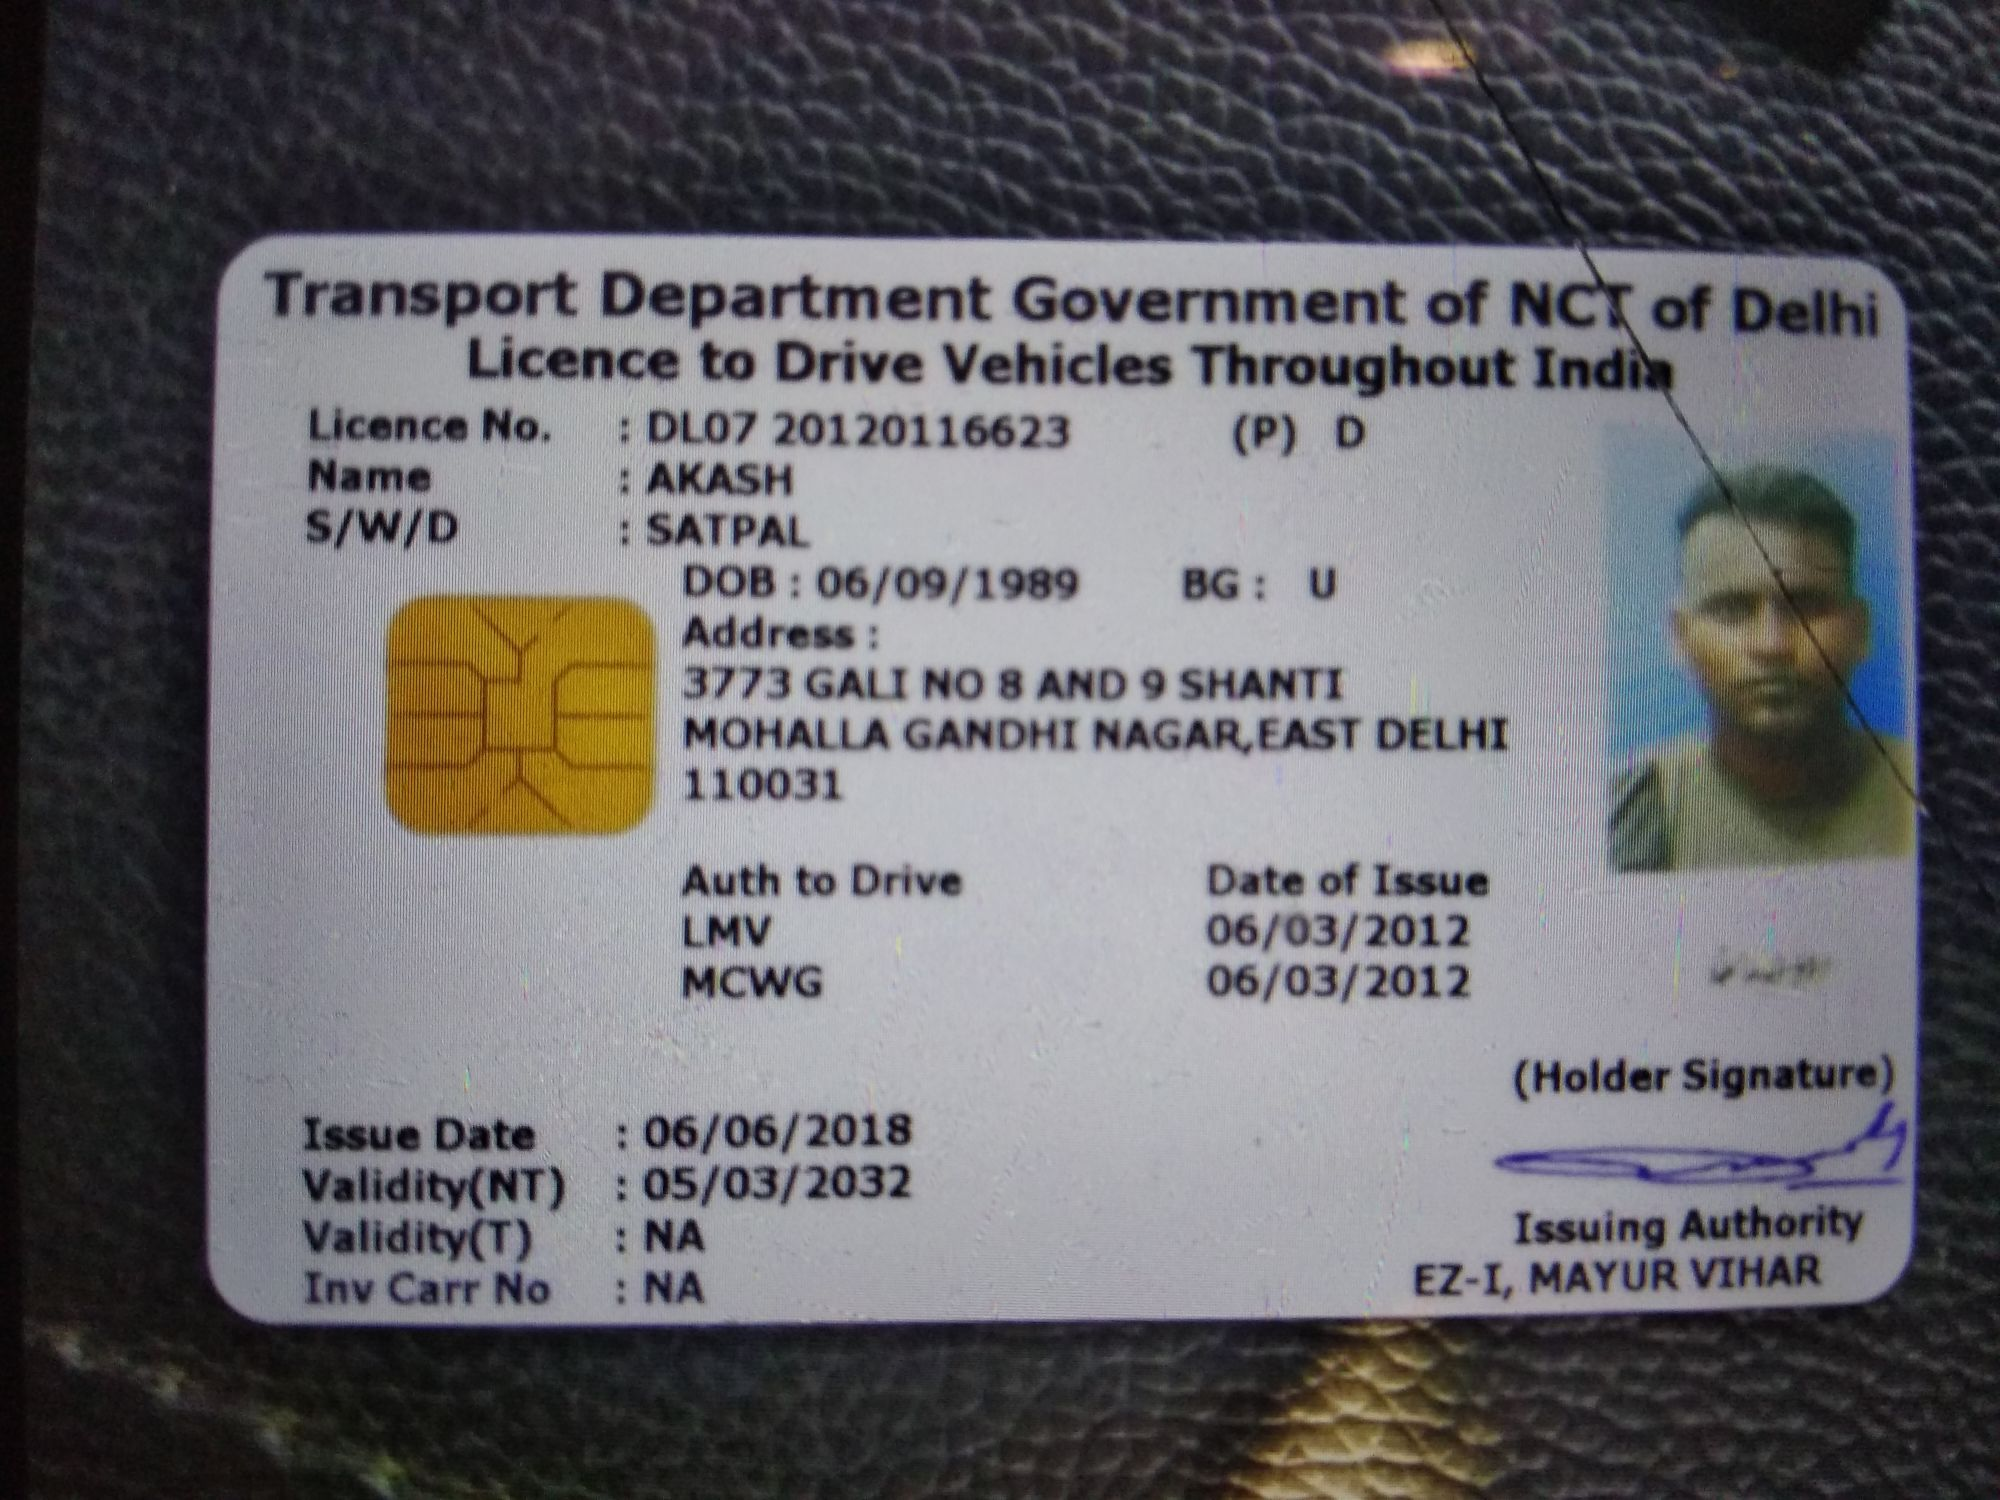text: (303, 397, 1077, 453), (295, 457, 825, 502), (299, 506, 817, 552), (674, 558, 1089, 606)
